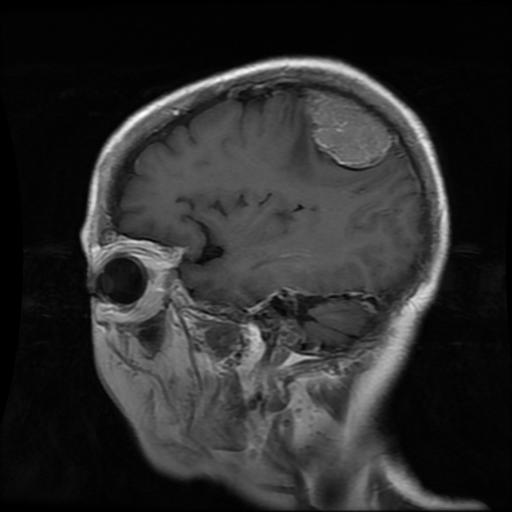Menigiomia_tumour: (299, 89, 393, 167)
